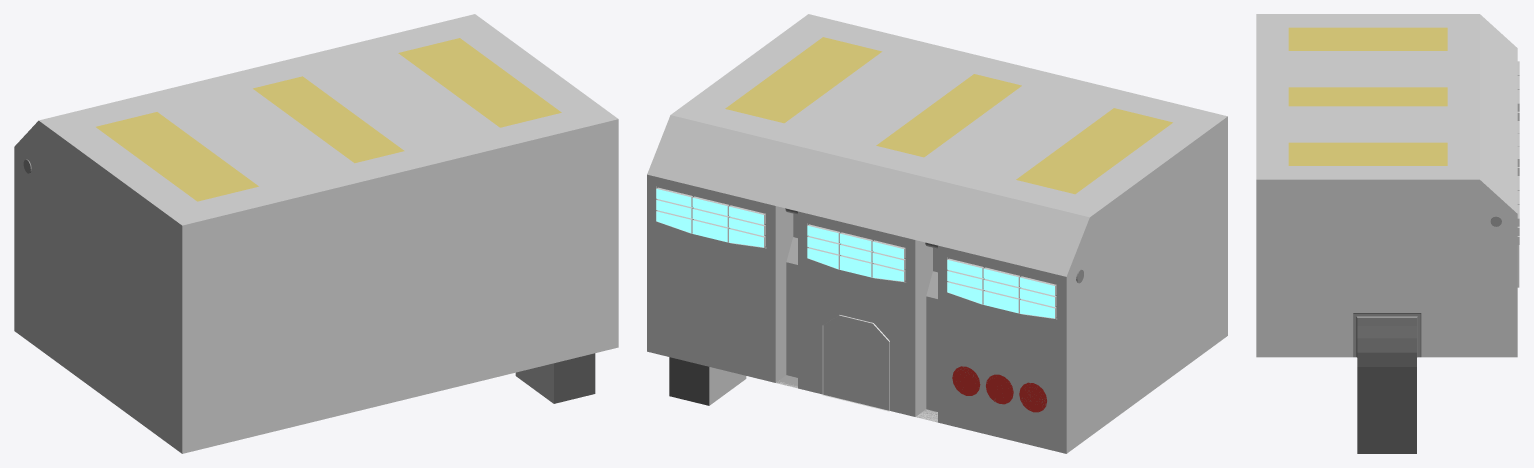
The model's file is MapOutline.fbx.
3 renders of one model, left to right at view 1: azimuth 30°, elevation 25°; view 2: azimuth 150°, elevation 25°; view 3: azimuth 270°, elevation 25°, orthographic. The views are drawn at different scales.
Visible parts, largest first — view 1: Room; view 2: Room, Pipe.big; view 3: Room.
Boxes of the visible parts, x1=… form: Room: x1=14, y1=14, x2=618, y2=453; Room: x1=647, y1=14, x2=1227, y2=453; Pipe.big: x1=952, y1=366, x2=1046, y2=412; Room: x1=1256, y1=14, x2=1519, y2=453.
Size of the model in its own units: 201 by 218 by 329.
